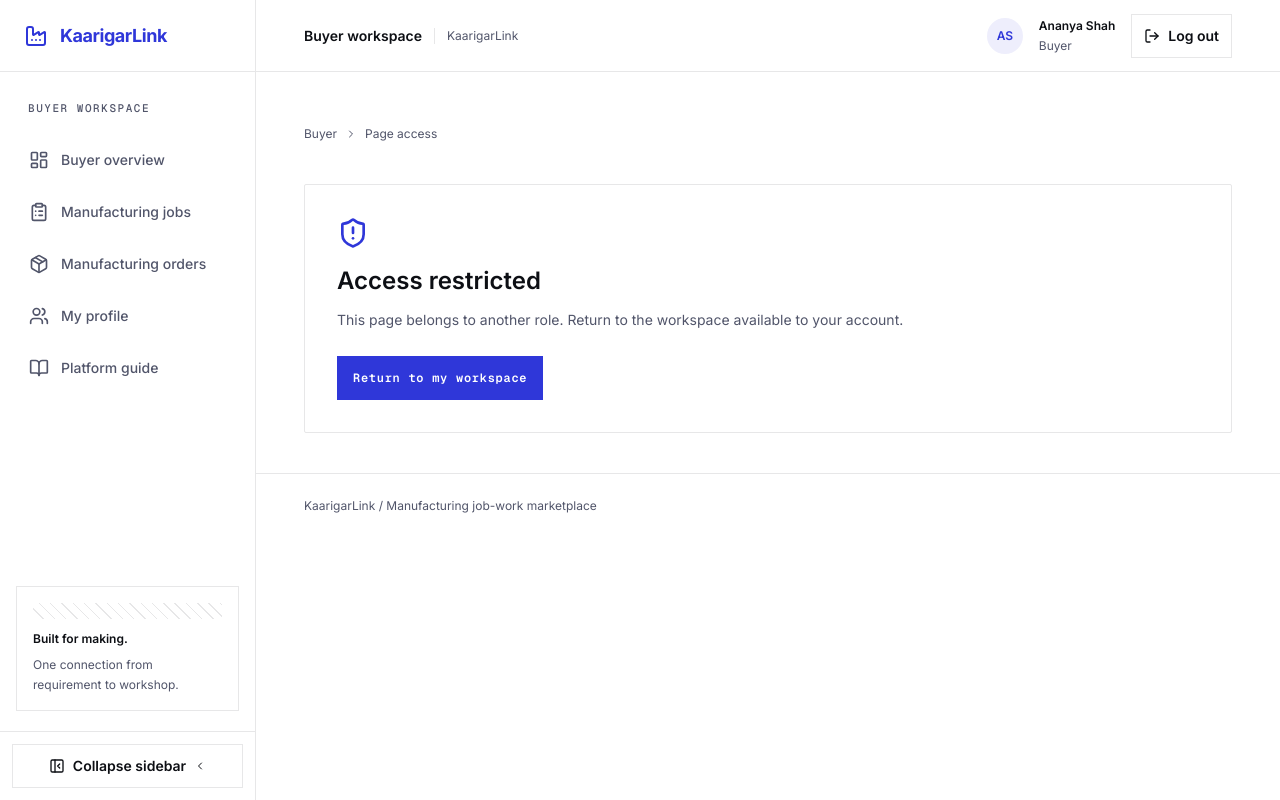
role protection is unchanged: another role's area is still restricted, and the guide links back
Expected: the heading "Access restricted" is shown, [337,266,541,295]
What coordinates should you click on to do the following:
click the link "Platform guide"
I would click on:
 (94, 368)
Its box is [29,358,158,378].
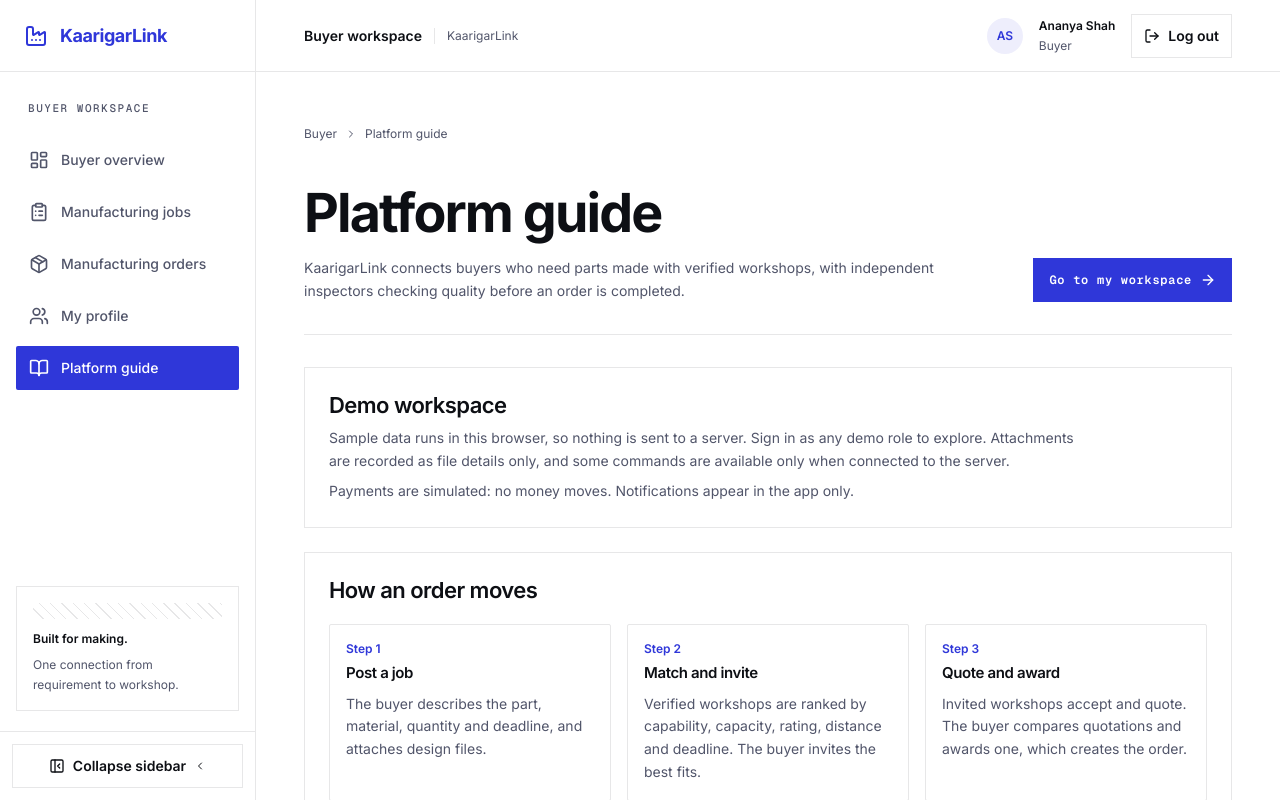
Expected: the heading "Platform guide" is shown, [304,180,661,245]
